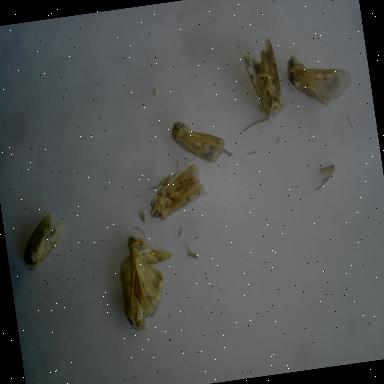abw: (120, 221, 186, 321), (280, 40, 358, 110), (164, 107, 240, 177), (236, 30, 292, 122), (140, 158, 214, 226), (14, 204, 74, 272), (112, 248, 154, 340)
